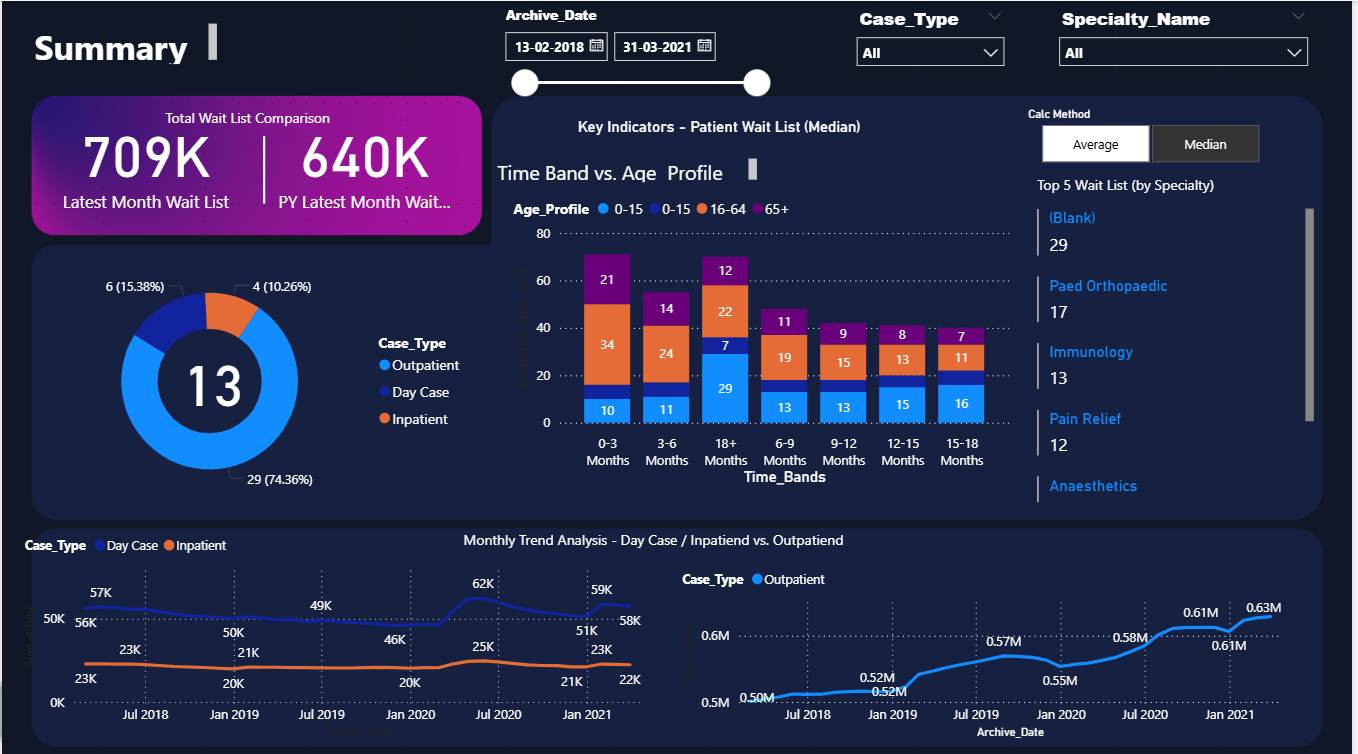

The page's visual inventory and layout, read from the dashboard file:
{"tool":"powerbi","page":{"name":"Summary","canvas":[1280,720],"ordinal":0},"visuals":[{"type":"card","fields":{"Values":["All_Data.Latest Month Wait List"]},"box":[48,96,176,112],"z":0},{"type":"card","fields":{"Values":["All_Data.PY Latest Month Wait List"]},"box":[256,96,176,112],"z":1000},{"type":"slicer","fields":{"Values":["Calculation Method.Calc Method"]},"box":[960,96,256,64],"z":2000},{"type":"donutChart","fields":{"Y":["All_Data.Avg/Med Wait List"],"Category":["All_Data.Case_Type"]},"box":[32,240,416,240],"z":3000},{"type":"columnChart","fields":{"Y":["All_Data.Avg/Med Wait List"],"Category":["All_Data.Time_Bands"],"Series":["All_Data.Age_Profile"]},"box":[480,176,480,288],"z":4000},{"type":"multiRowCard","fields":{"Values":["All_Data.Avg/Med Wait List","All_Data.Specialty_Name"]},"box":[976,192,272,288],"z":5000},{"type":"lineChart","fields":{"Category":["All_Data.Archive_Date"],"Y":["Sum(All_Data.Total)"],"Series":["All_Data.Case_Type"]},"box":[16,496,608,208],"z":6000},{"type":"lineChart","fields":{"Category":["All_Data.Archive_Date"],"Y":["Sum(All_Data.Total)"],"Series":["All_Data.Case_Type"]},"box":[640,528,592,176],"z":7000},{"type":"slicer","fields":{"Values":["All_Data.Archive_Date"]},"box":[464,0,272,96],"z":8000},{"type":"slicer","fields":{"Values":["All_Data.Case_Type"]},"box":[800,0,160,64],"z":9000},{"type":"slicer","fields":{"Values":["All_Data.Specialty_Name"]},"box":[992,0,256,64],"z":10000},{"type":"textbox","box":[16,16,192,48],"z":11000},{"type":"card","fields":{"Values":["All_Data.Avg/Med Wait List"]},"box":[144,336,112,64],"z":12000},{"type":"shape","box":[176,128,144,64],"z":13000},{"type":"textbox","box":[128,96,272,32],"z":14000},{"type":"textbox","box":[464,144,256,32],"z":15000},{"type":"textbox","box":[432,496,384,48],"z":16000},{"type":"card","fields":{"Values":["All_Data.Dynamic Title"]},"box":[512,96,336,48],"z":17000},{"type":"textbox","box":[976,160,240,32],"z":18000}]}

Visuals, with their boxes in screenshot pixels (x1, y1, x2, y2), scaled from the page's 1280x720 canvas onto the 1358x754 screenshot:
card - All_Data.Latest Month Wait List: 51, 101, 238, 218
card - All_Data.PY Latest Month Wait List: 272, 101, 458, 218
slicer - Calculation Method.Calc Method: 1019, 101, 1290, 168
donutChart - All_Data.Avg/Med Wait List x All_Data.Case_Type: 34, 251, 475, 503
columnChart - All_Data.Avg/Med Wait List x All_Data.Time_Bands: 509, 184, 1019, 486
multiRowCard - All_Data.Avg/Med Wait List x All_Data.Specialty_Name: 1035, 201, 1324, 503
lineChart - All_Data.Archive_Date x Sum(All_Data.Total): 17, 519, 662, 737
lineChart - All_Data.Archive_Date x Sum(All_Data.Total): 679, 553, 1307, 737
slicer - All_Data.Archive_Date: 492, 0, 781, 101
slicer - All_Data.Case_Type: 849, 0, 1019, 67
slicer - All_Data.Specialty_Name: 1052, 0, 1324, 67
textbox: 17, 17, 221, 67
card - All_Data.Avg/Med Wait List: 153, 352, 272, 419
shape: 187, 134, 340, 201
textbox: 136, 101, 424, 134
textbox: 492, 151, 764, 184
textbox: 458, 519, 866, 570
card - All_Data.Dynamic Title: 543, 101, 900, 151
textbox: 1035, 168, 1290, 201
